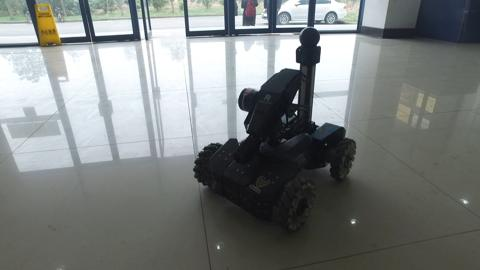car: (262, 1, 346, 25)
chariot: (192, 26, 357, 233)
